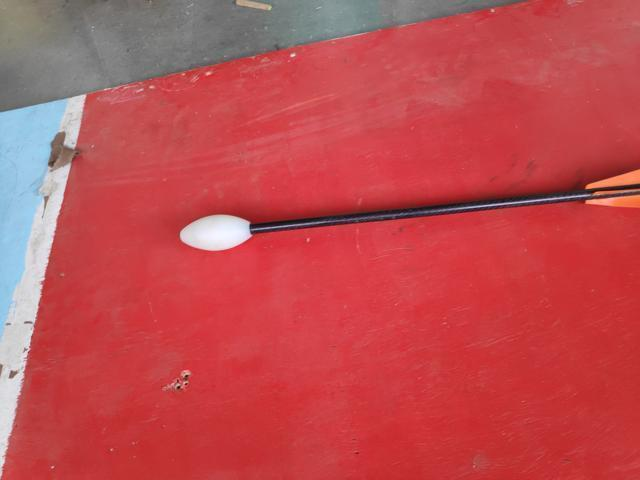Head: (174, 211, 254, 253)
Tail: (581, 166, 640, 213)
